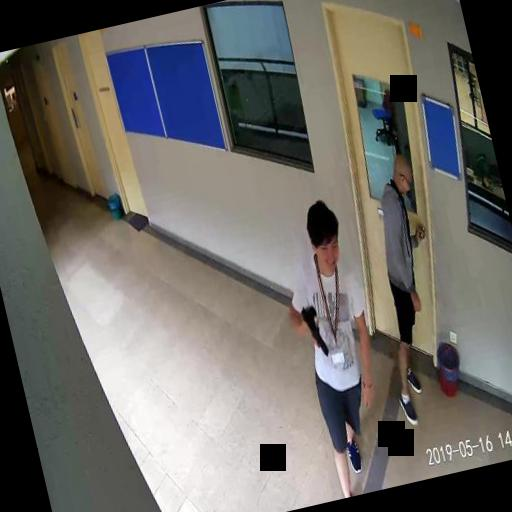Handgun: (298, 302, 328, 358)
